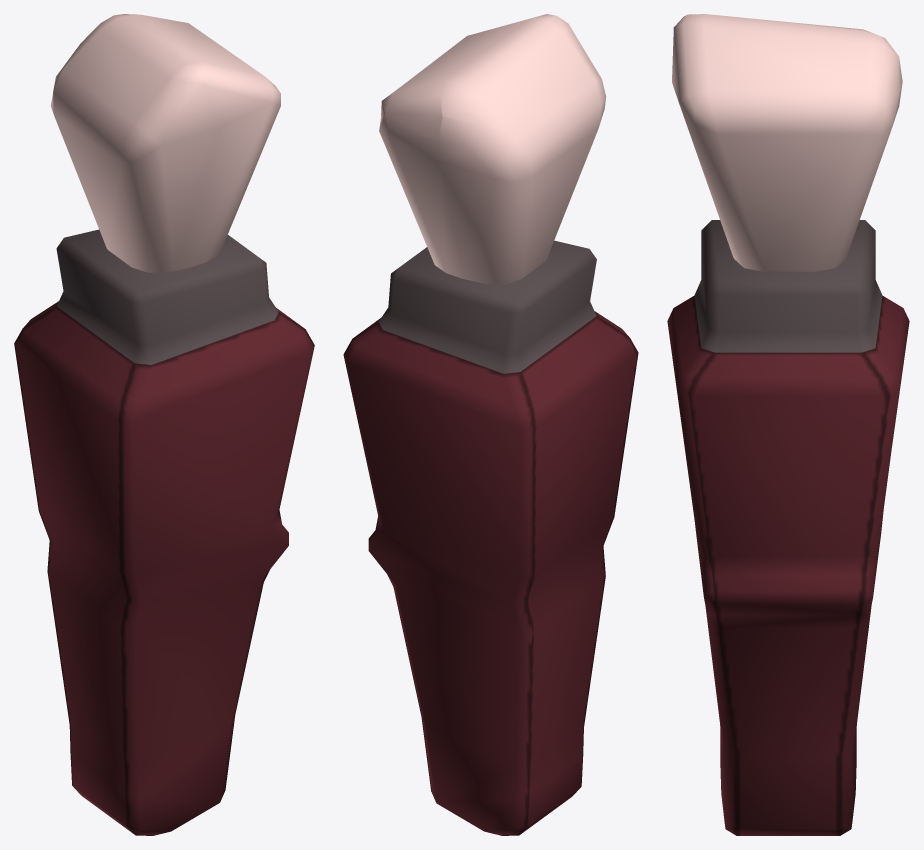
Rendered from hand.fbx.
3 renders of one model, left to right at view 1: azimuth 30°, elevation 25°; view 2: azimuth 150°, elevation 25°; view 3: azimuth 270°, elevation 25°, orthographic. The views are drawn at different scales.
Parts seen in each view (by area): view 1: Hero; view 2: Hero; view 3: Hero.
Part boxes in pixels (bbox=[...]): Hero: bbox=[14, 14, 314, 835]; Hero: bbox=[343, 14, 638, 835]; Hero: bbox=[667, 14, 909, 835].
Size of the model in its own units: 17.22 by 17.24 by 63.98.
